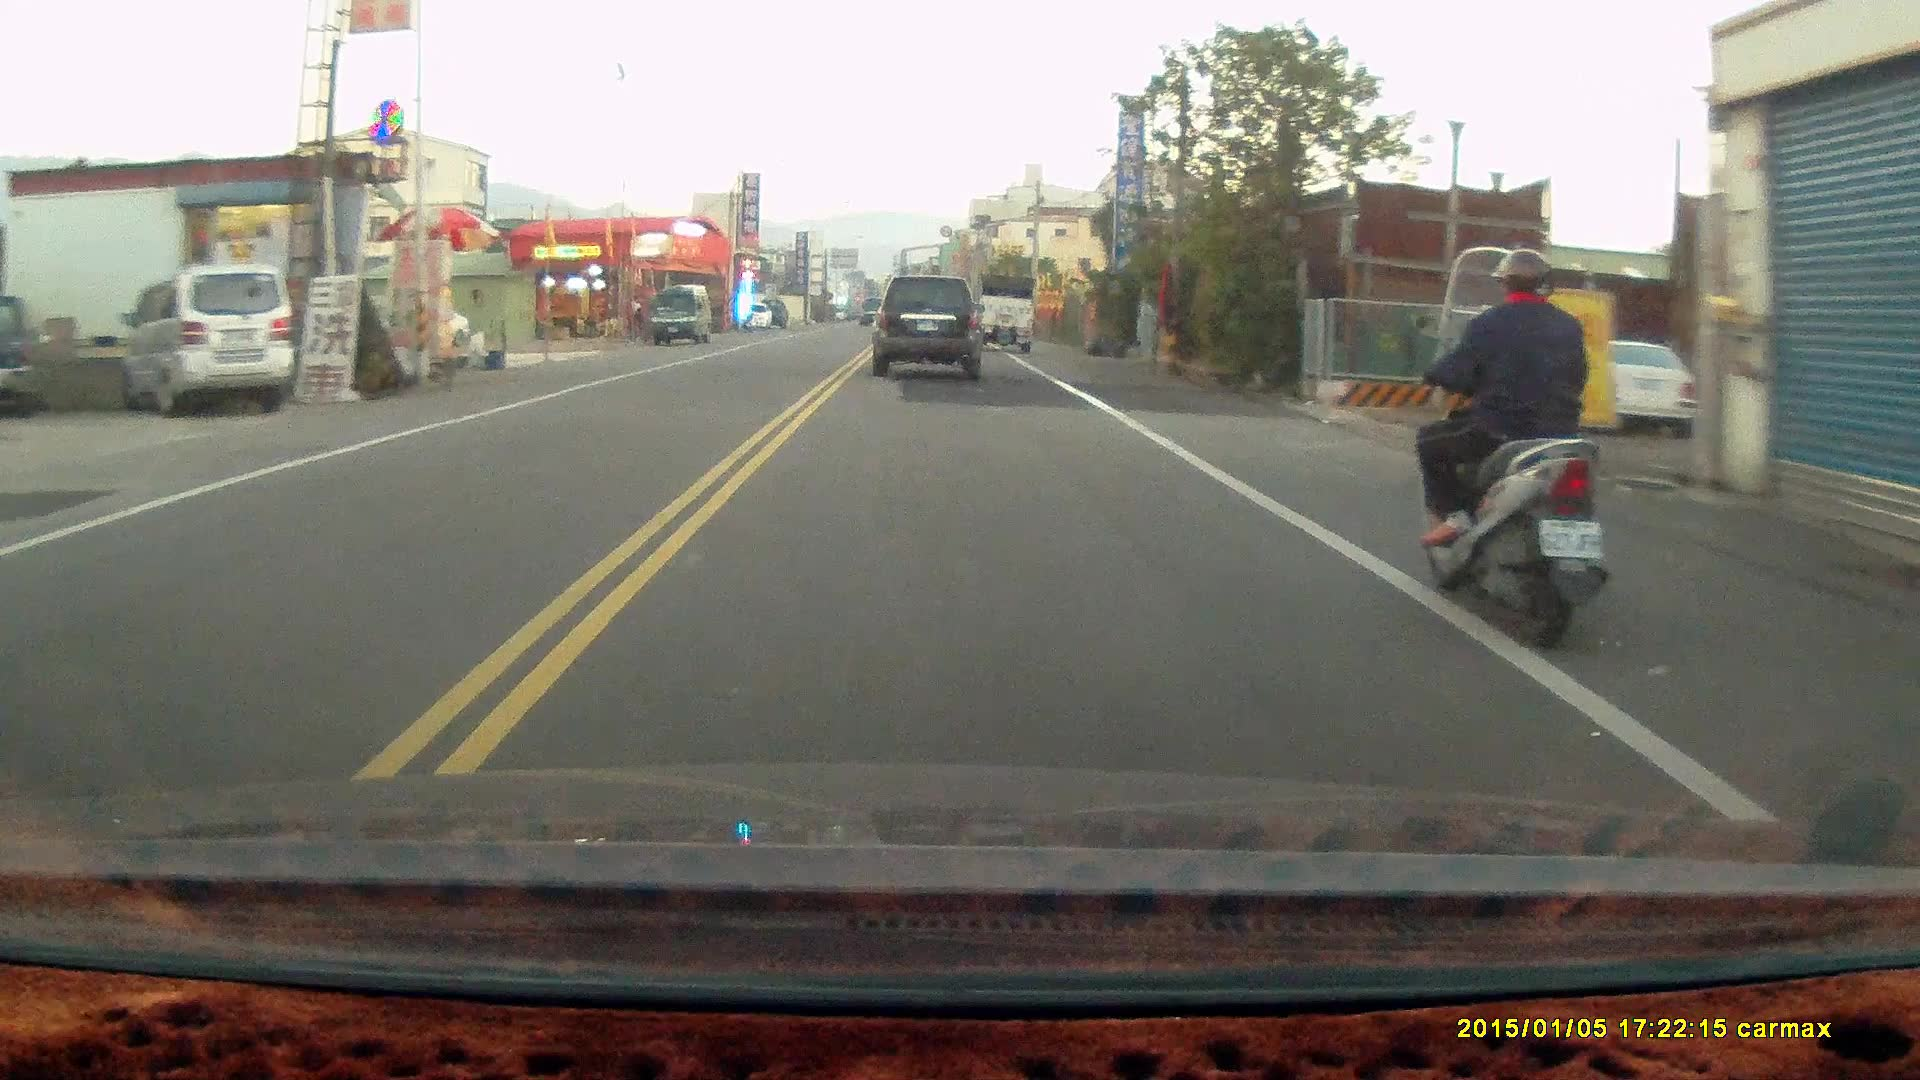rider: (1407, 243, 1609, 654)
vehicle: (128, 268, 297, 418), (875, 275, 990, 380), (975, 272, 1037, 356), (1, 296, 37, 417), (650, 286, 712, 349)
